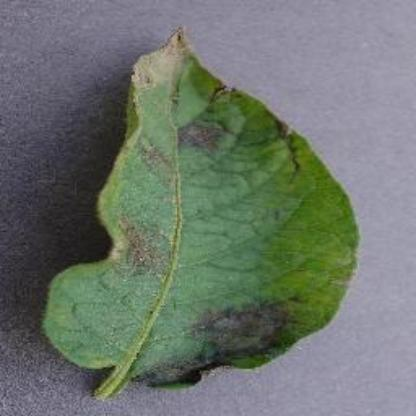Late-Blight: (10, 13, 396, 408)
